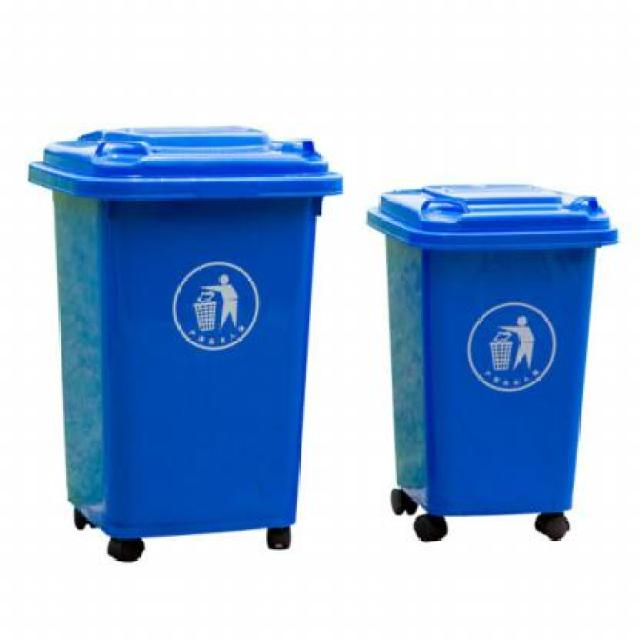garbage container: (25, 114, 346, 595), (356, 165, 624, 569)
